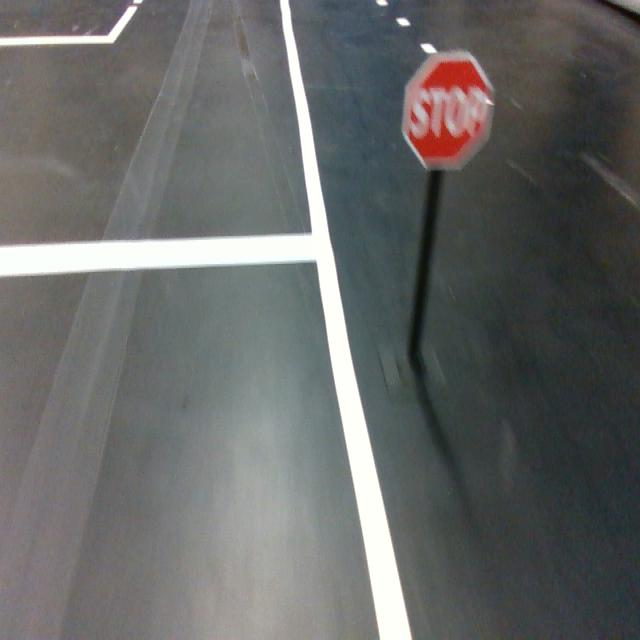stop-sign: (400, 49, 497, 172)
